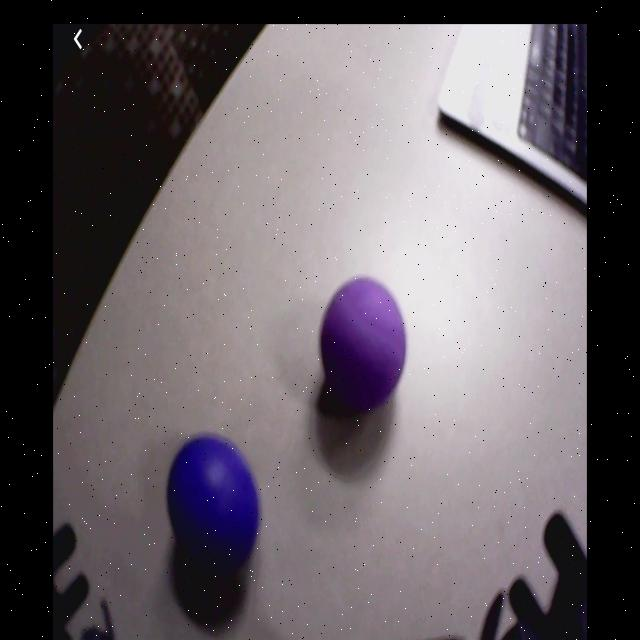ball: (168, 435, 263, 573), (322, 278, 407, 407)
